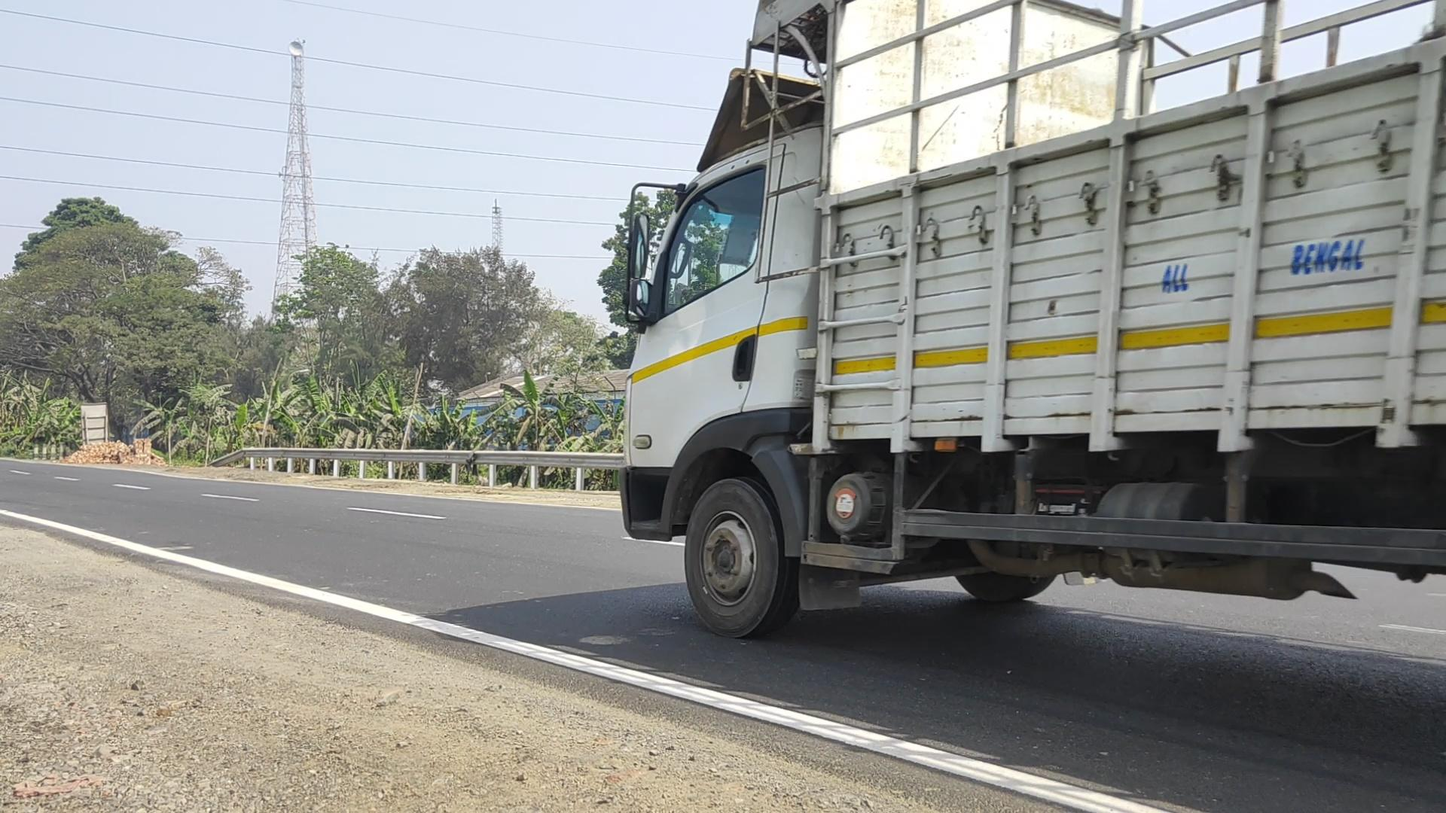van: (619, 2, 1446, 641)
